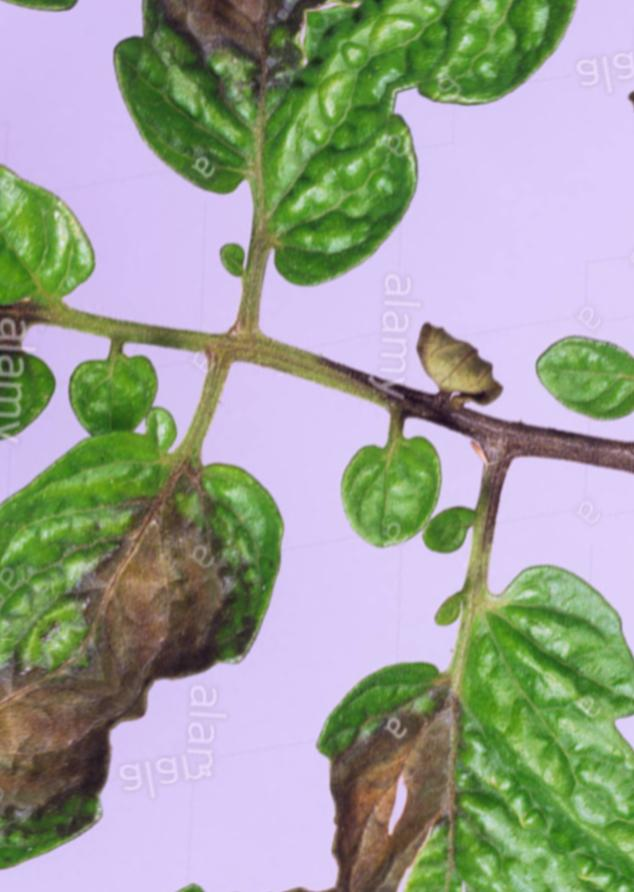Tomato leaf late blight: (240, 502, 634, 892), (35, 0, 479, 346), (0, 329, 351, 744), (0, 128, 181, 544)
